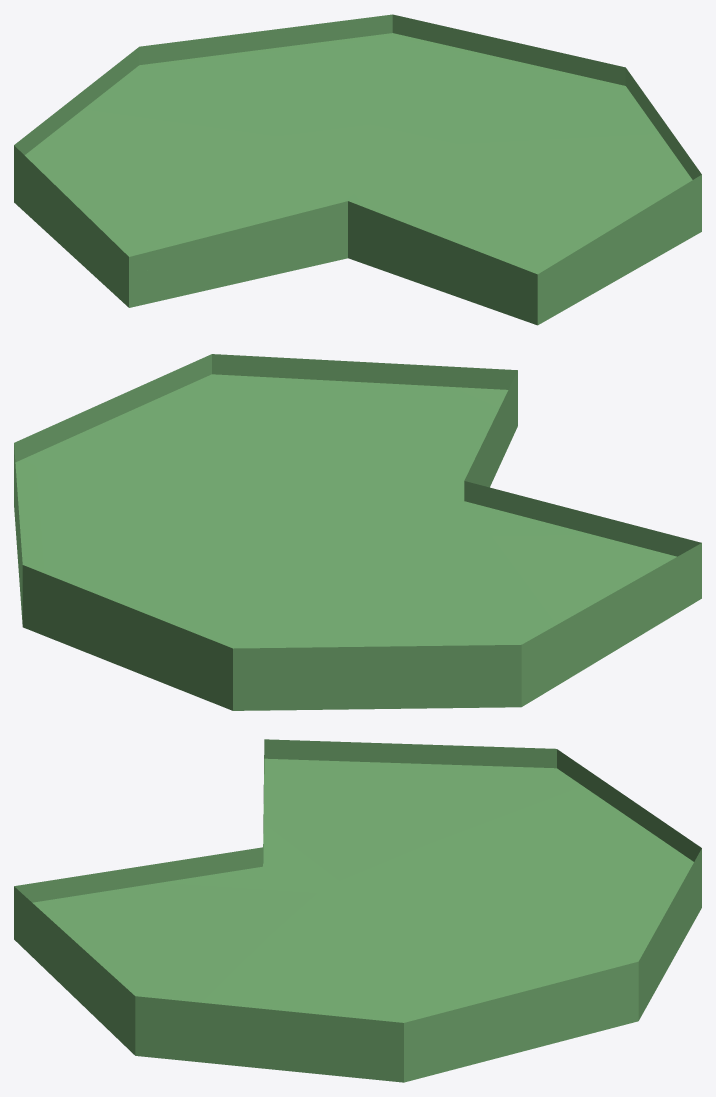
The model's file is lotus_leaf.fbx.
3 views of the same model, one above another, from view 1: azimuth 30°, elevation 25°; view 2: azimuth 150°, elevation 25°; view 3: azimuth 270°, elevation 25° (orthographic). The views are drawn at different scales.
Visible parts, largest first — view 1: pCylinder6; view 2: pCylinder6; view 3: pCylinder6.
Part boxes in pixels (x1,y1,x2,y2): pCylinder6: (14, 14, 701, 325); pCylinder6: (14, 354, 701, 710); pCylinder6: (14, 739, 701, 1082).
Bounding box in the file's own units: 2.23 × 0.2163 × 2.26.
